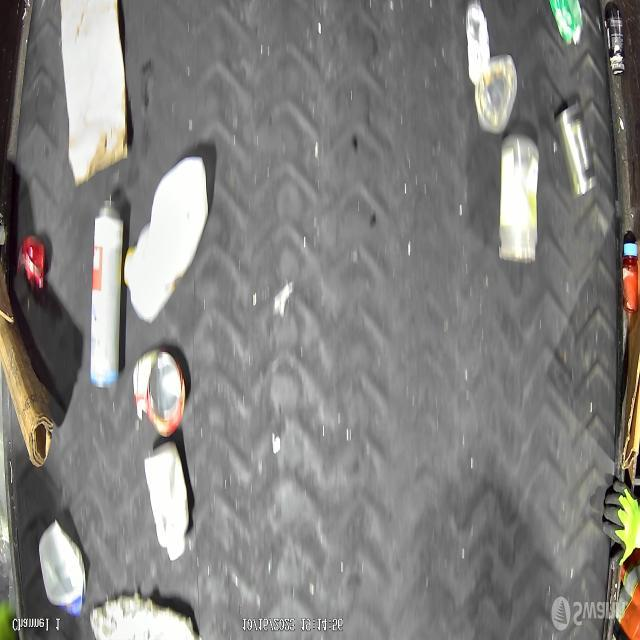can: (132, 350, 188, 438), (554, 100, 598, 200), (548, 0, 584, 50)
milk_jug: (123, 152, 212, 324)
